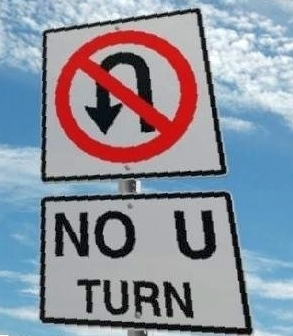No_u_turn: (56, 32, 197, 161)
